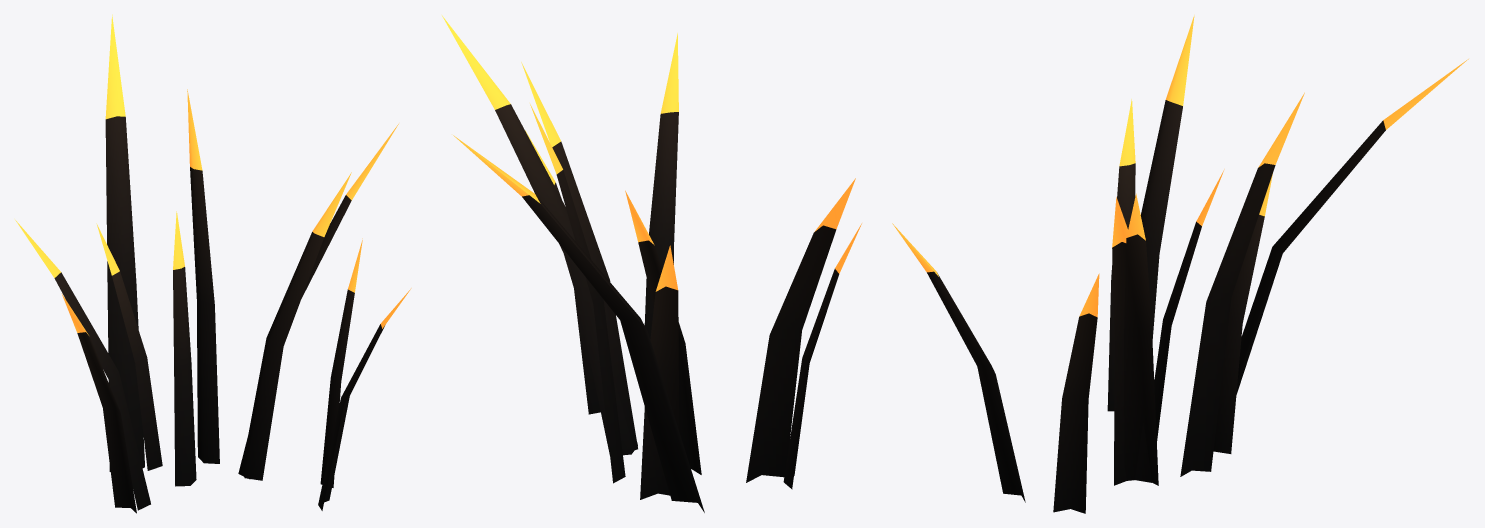
File: grass_ember_a.glb
3 renders of one model, left to right at view 1: azimuth 30°, elevation 25°; view 2: azimuth 150°, elevation 25°; view 3: azimuth 270°, elevation 25°, orthographic. The views are drawn at different scales.
Parts seen in each view (by area): view 1: grass_ember_a; view 2: grass_ember_a; view 3: grass_ember_a.
Boxes of the visible parts, box(x1,y1,x2,y2) form: grass_ember_a: box(15, 14, 411, 513); grass_ember_a: box(442, 15, 861, 512); grass_ember_a: box(892, 15, 1468, 513).
Bounding box in the file's own units: 0.5809 × 0.5492 × 0.6739.
